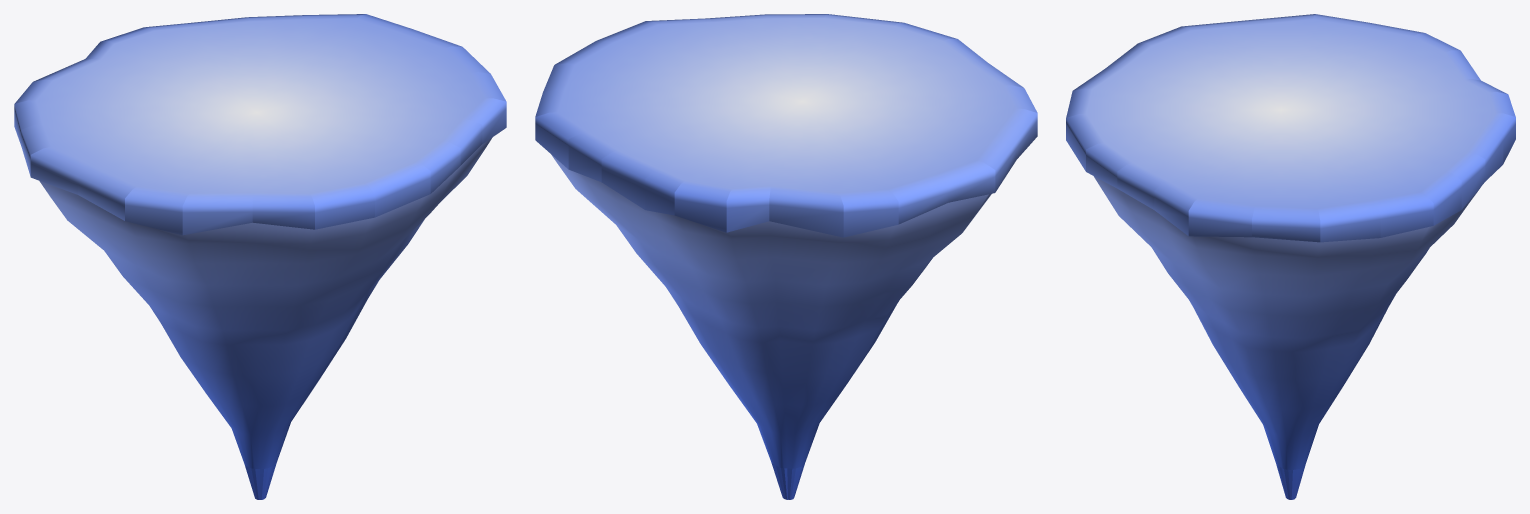
File: Floating Island.fbx
3 views of the same model, side by side, from view 1: azimuth 30°, elevation 25°; view 2: azimuth 150°, elevation 25°; view 3: azimuth 270°, elevation 25° (orthographic). The views are drawn at different scales.
Parts seen in each view (by area): view 1: pDisc1; view 2: pDisc1; view 3: pDisc1.
Part boxes in pixels (left/top/right/bottom): pDisc1: left=14, top=14, right=506, bottom=499; pDisc1: left=535, top=14, right=1037, bottom=499; pDisc1: left=1066, top=14, right=1515, bottom=499.
Size of the model in its own units: 15.8 by 13.59 by 14.44.
